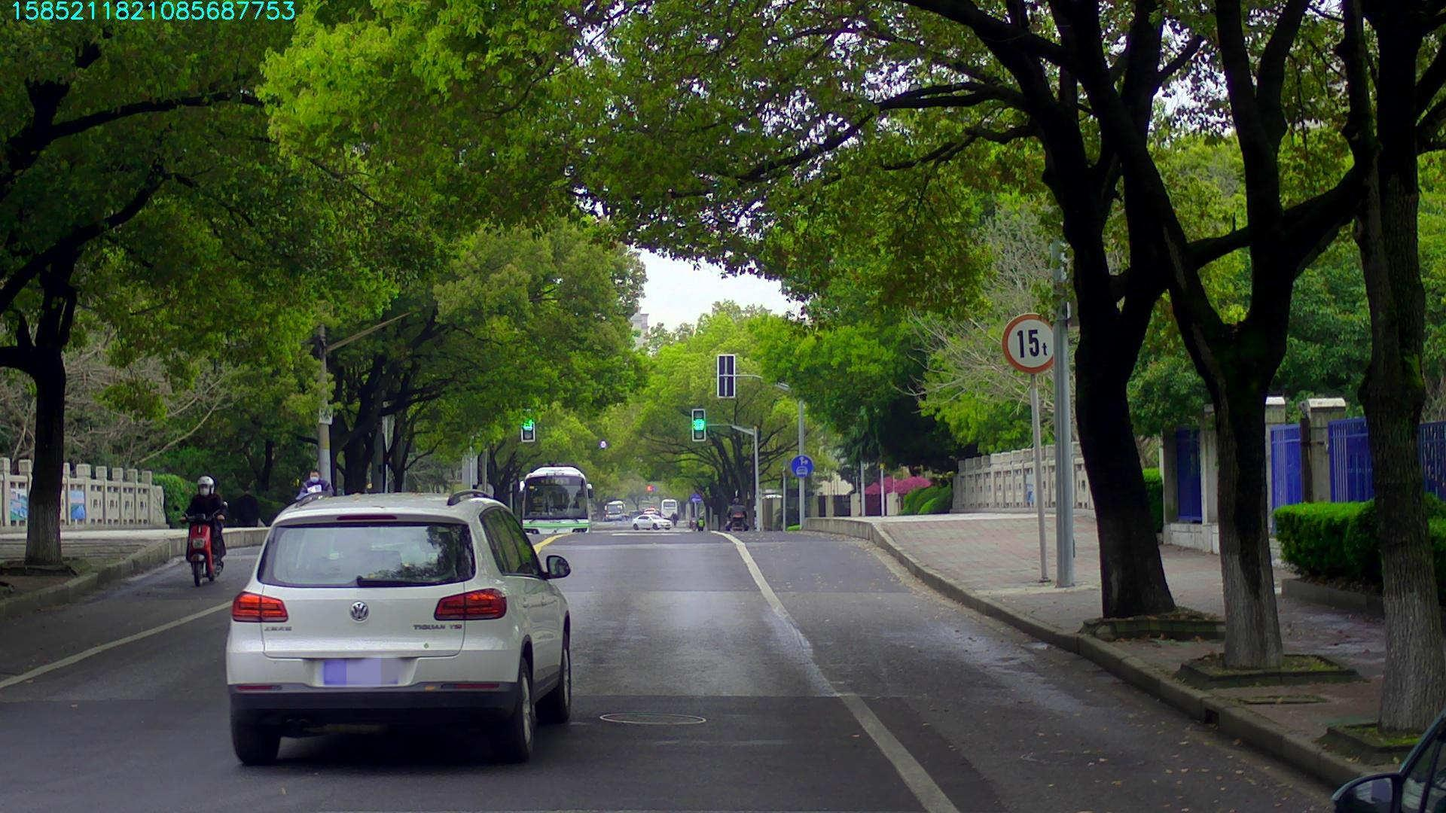green: (691, 408, 705, 440), (520, 408, 533, 441)
